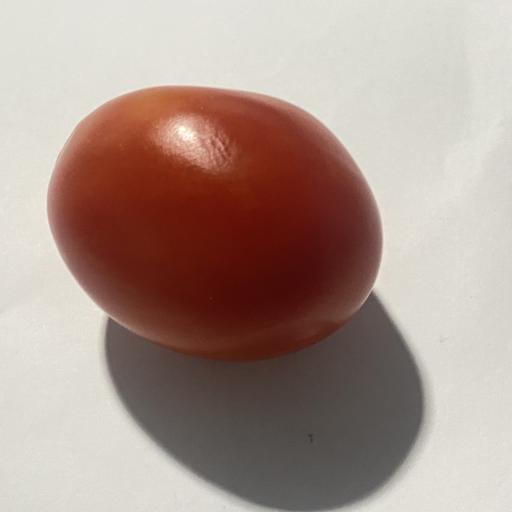ripe: (48, 86, 382, 361)
